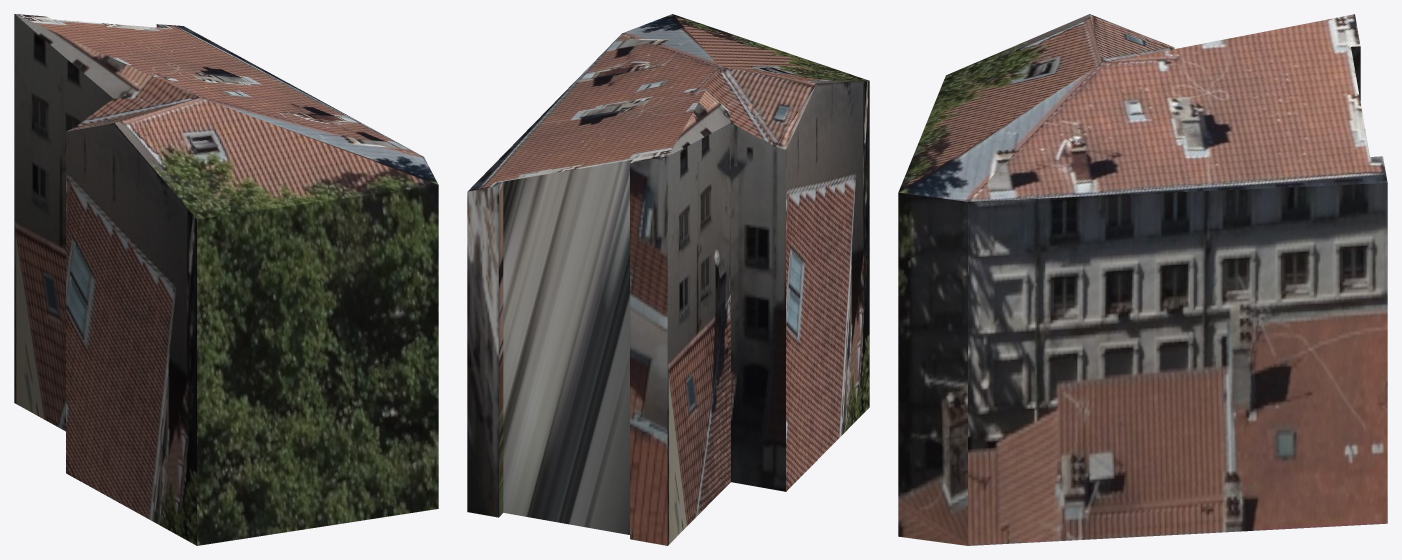
3 renders of one model, left to right at view 1: azimuth 30°, elevation 25°; view 2: azimuth 150°, elevation 25°; view 3: azimuth 270°, elevation 25°, orthographic. The views are drawn at different scales.
Visible parts, largest first — view 1: Z_UP; view 2: Z_UP; view 3: Z_UP.
Boxes of the visible parts, x1,y1,x2,y2 form: Z_UP: (14, 14, 438, 545); Z_UP: (467, 14, 869, 545); Z_UP: (898, 14, 1387, 545).
Size of the model in its own units: 13.22 by 18.81 by 20.17.
2 materials, 1 textured.
